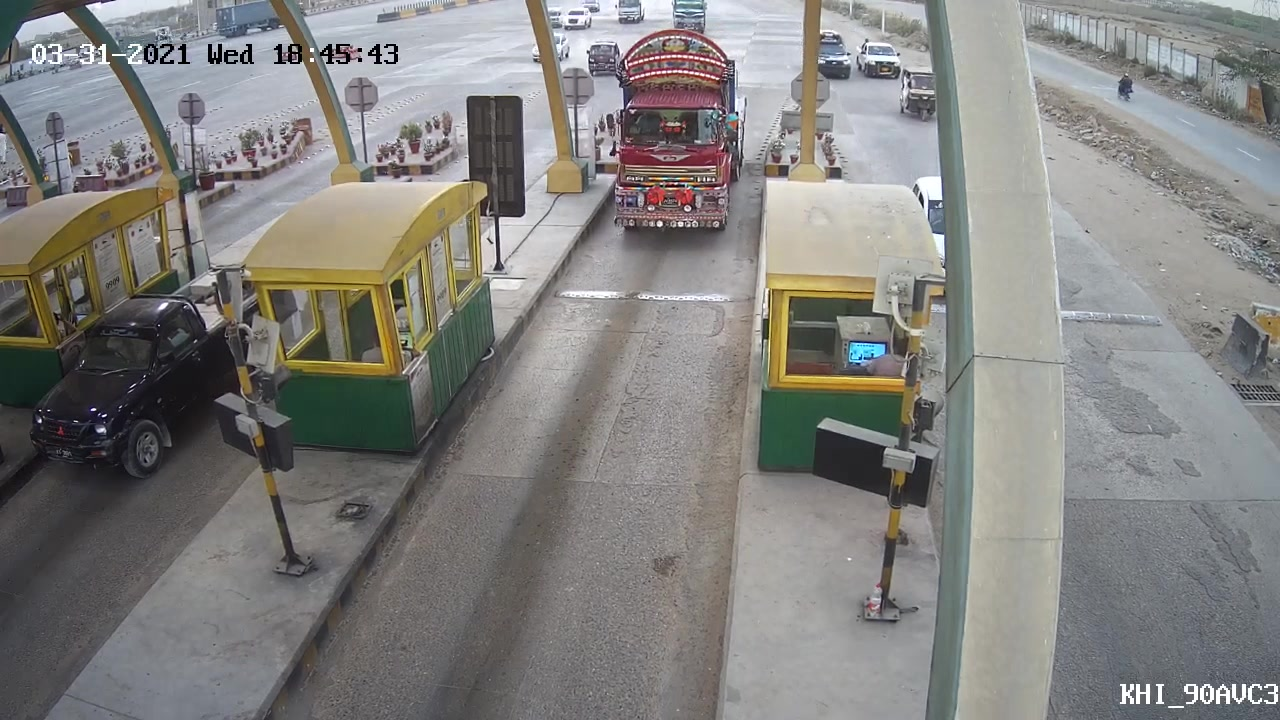F5: (593, 33, 761, 254)
